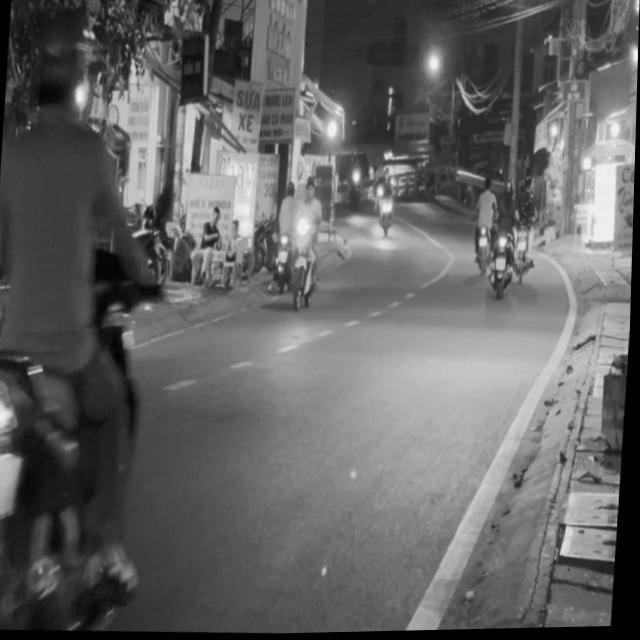helmet: (30, 26, 86, 123)
licenseplate: (0, 17, 176, 633)
nohelmet: (0, 453, 21, 515)
